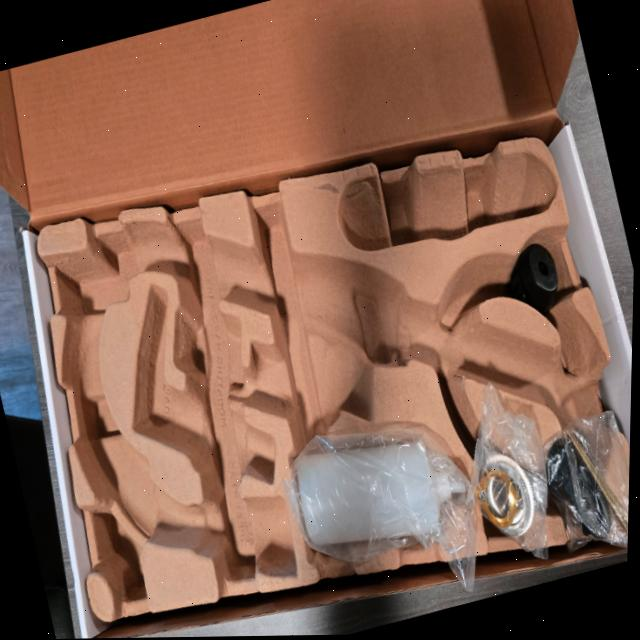1m: (60, 221, 623, 574)
2m: (132, 283, 274, 486)
3: (294, 442, 470, 551)
4m: (338, 153, 557, 247)
5: (511, 242, 558, 307)
6: (471, 371, 551, 555)
7: (547, 408, 629, 551)
